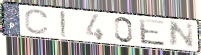0: (114, 17, 134, 44)
4: (85, 12, 106, 42)
C: (24, 8, 51, 36)
E: (137, 17, 168, 48)
I: (59, 10, 69, 39)
N: (168, 20, 196, 49)
